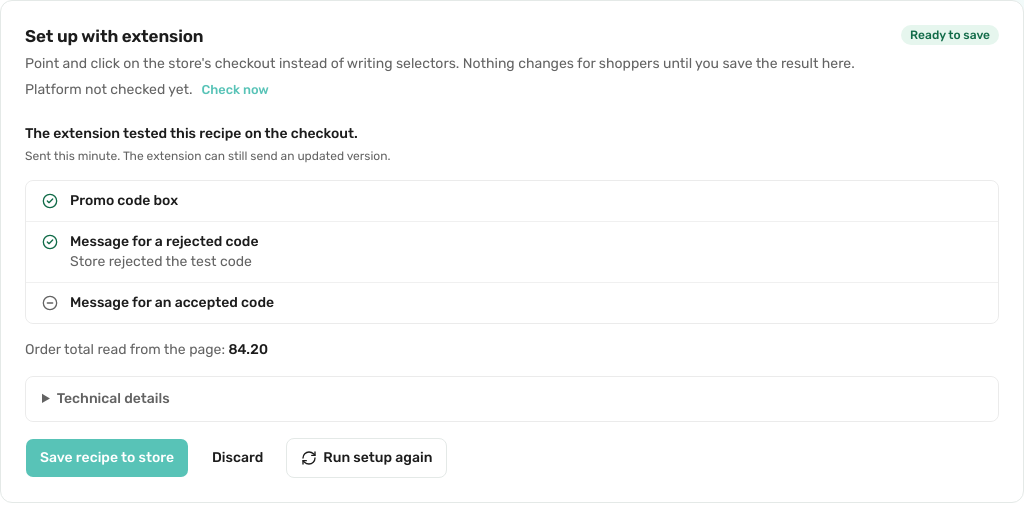
Test case: discards a draft
Click the button "Discard": (238, 458) 197,438 -> 278,478
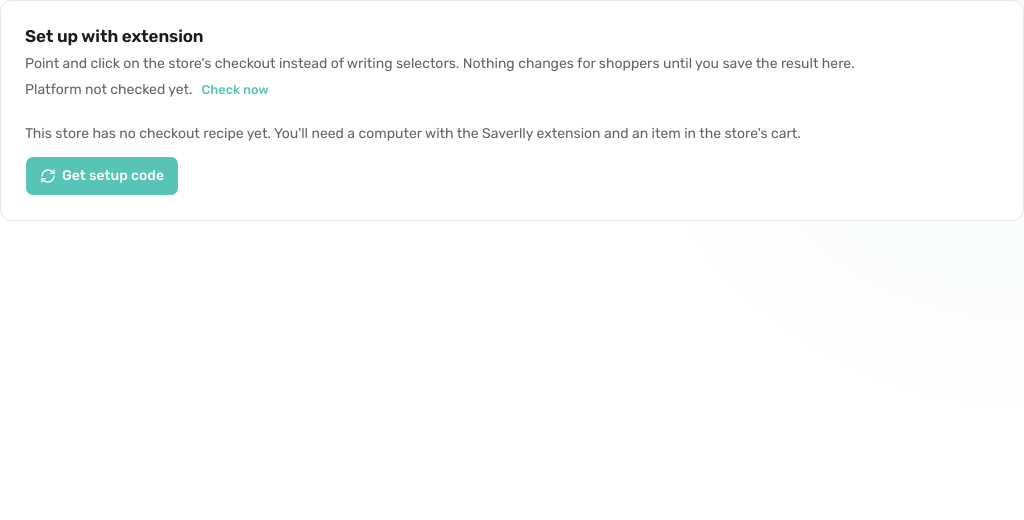
Expected: the button "Get setup code" is shown, 25,156 -> 179,196
